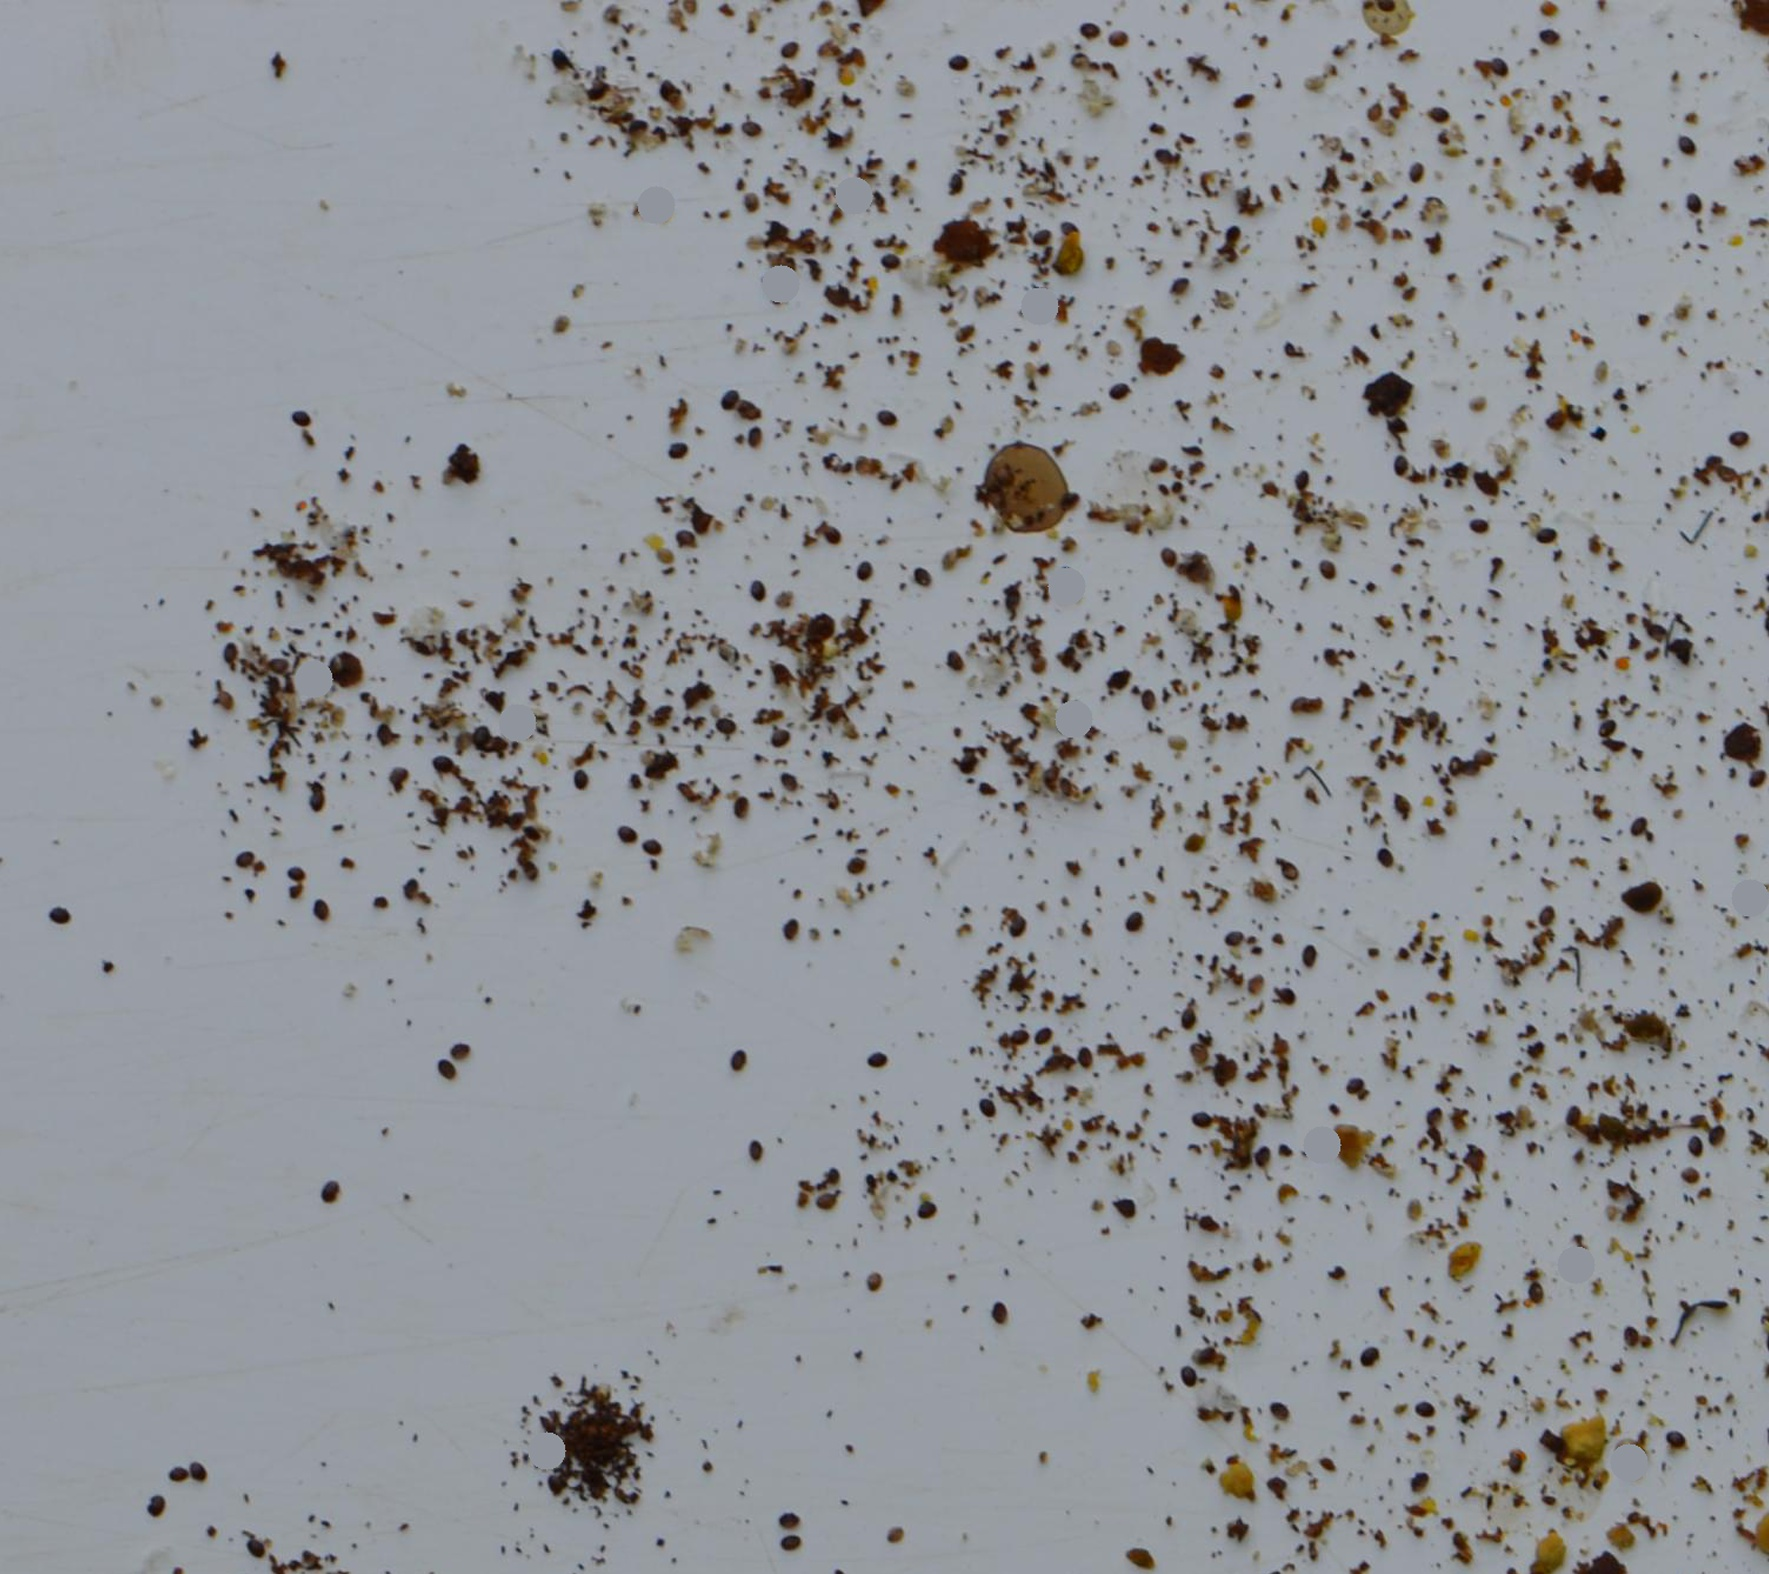Varroa: (1220, 74, 1263, 115), (1236, 965, 1277, 1007), (1257, 1465, 1298, 1507), (533, 1463, 576, 1504), (1514, 1269, 1556, 1310), (1187, 1335, 1229, 1376), (1351, 90, 1392, 131), (1018, 644, 1059, 685), (1280, 684, 1321, 725), (764, 1495, 805, 1536), (1552, 1095, 1593, 1136), (932, 160, 973, 201), (942, 308, 983, 349), (1050, 208, 1091, 249), (1492, 1440, 1533, 1481), (1289, 937, 1322, 971), (1002, 909, 1029, 943), (243, 1533, 274, 1560), (1125, 906, 1152, 934), (951, 46, 980, 73), (1530, 515, 1559, 542), (1740, 766, 1767, 795), (1412, 1401, 1439, 1428), (436, 1056, 464, 1083), (1157, 547, 1184, 574), (1191, 1111, 1217, 1139), (1269, 985, 1295, 1013), (777, 773, 802, 802), (851, 559, 875, 589), (1672, 129, 1698, 156), (147, 1490, 175, 1516), (1467, 514, 1492, 541), (742, 580, 767, 608), (775, 38, 801, 65), (722, 1045, 748, 1073), (1137, 690, 1163, 717), (1248, 1146, 1274, 1173), (468, 731, 495, 757), (884, 1519, 910, 1547), (641, 836, 666, 864), (746, 422, 771, 451), (874, 409, 900, 435), (290, 409, 316, 435), (1685, 191, 1711, 217), (1681, 1162, 1707, 1188), (818, 527, 843, 553), (1106, 378, 1131, 406), (1179, 1364, 1204, 1392), (310, 902, 334, 930), (989, 1301, 1014, 1328), (746, 1136, 771, 1164), (717, 397, 742, 424), (319, 1180, 343, 1206), (714, 714, 739, 740), (1272, 1399, 1296, 1425), (1403, 160, 1427, 185), (767, 722, 792, 747), (910, 565, 935, 591), (1345, 1079, 1369, 1105), (1728, 422, 1752, 448), (872, 1048, 897, 1074), (780, 1516, 804, 1542), (1310, 559, 1334, 585), (284, 864, 309, 890), (445, 1045, 471, 1070), (666, 442, 690, 468), (1114, 27, 1138, 53), (915, 1199, 939, 1225), (1538, 29, 1562, 55), (1410, 1474, 1435, 1500), (1711, 1123, 1736, 1149), (1486, 56, 1511, 82), (1105, 672, 1131, 696), (954, 754, 979, 779), (1378, 846, 1401, 874), (1071, 1042, 1096, 1067), (945, 649, 970, 673), (1664, 1430, 1688, 1454), (1622, 1326, 1646, 1351), (731, 793, 755, 817), (1173, 1010, 1198, 1035), (1223, 922, 1248, 947), (1164, 277, 1188, 301), (777, 912, 801, 936), (1064, 650, 1088, 675), (658, 88, 682, 112), (1628, 813, 1650, 839), (236, 846, 258, 872), (881, 251, 907, 273), (865, 1275, 888, 1301), (1324, 649, 1347, 675), (263, 661, 289, 684), (1144, 454, 1167, 480), (1419, 1105, 1442, 1130), (1277, 864, 1299, 890), (52, 904, 74, 928), (739, 122, 763, 144), (1429, 106, 1451, 131), (1027, 223, 1052, 246), (305, 782, 328, 807), (391, 764, 413, 789), (1033, 1019, 1058, 1042), (1290, 473, 1313, 497), (742, 191, 764, 216), (1394, 457, 1416, 482), (1360, 1342, 1383, 1364), (976, 1097, 998, 1120), (435, 757, 457, 779), (1535, 909, 1558, 931), (1005, 1026, 1027, 1048), (1593, 716, 1616, 738), (1078, 20, 1100, 43), (616, 820, 638, 843), (403, 880, 426, 902), (520, 823, 543, 846), (1688, 1133, 1711, 1156), (1079, 1056, 1102, 1079), (571, 766, 596, 787), (840, 855, 862, 880), (1220, 223, 1245, 245), (214, 688, 236, 713), (1158, 147, 1179, 172), (185, 1459, 207, 1481), (217, 643, 239, 665), (585, 84, 606, 106), (178, 1468, 198, 1490), (818, 1185, 837, 1206), (1023, 1029, 1043, 1050)
